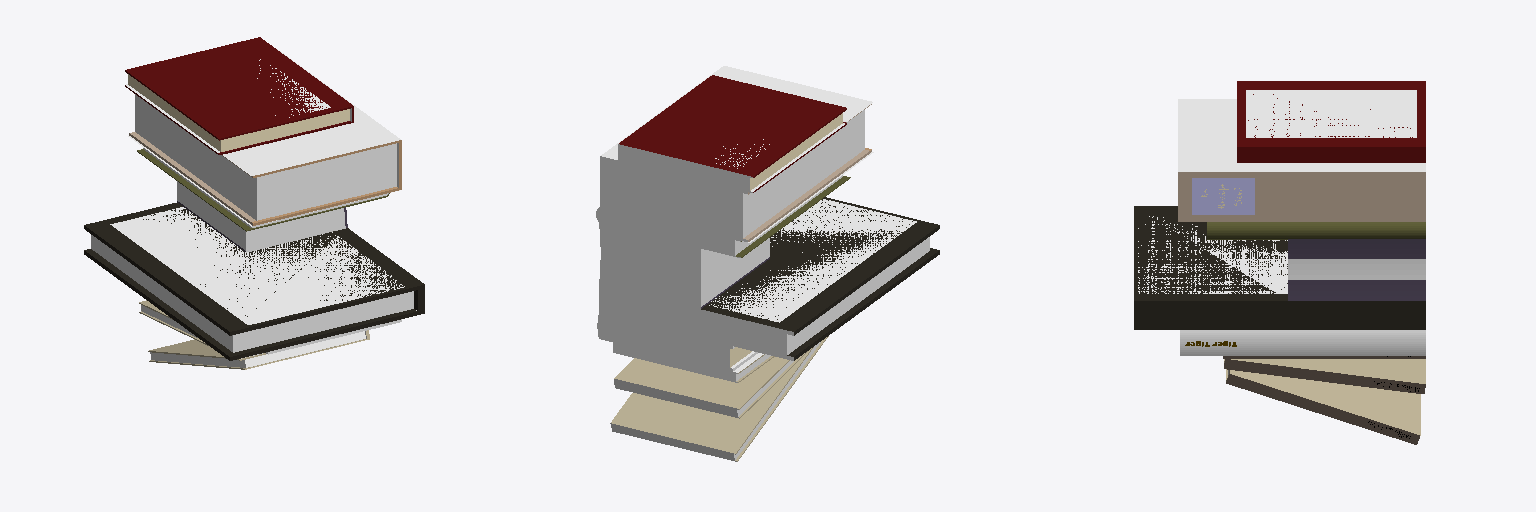
3 renders of one model, left to right at view 1: azimuth 30°, elevation 25°; view 2: azimuth 150°, elevation 25°; view 3: azimuth 270°, elevation 25°, orthographic.
Parts seen in each view (by area): view 1: more books; view 2: more books; view 3: more books.
Boxes of the visible parts, <box> form: more books: <box>84,37,424,369</box>; more books: <box>596,66,939,461</box>; more books: <box>1134,81,1425,444</box>.
Bounding box in the file's own units: 229 × 324 × 292.